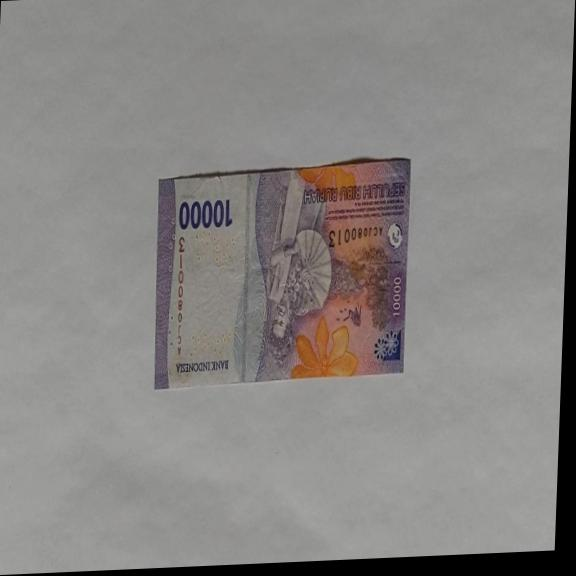Kertas: (151, 157, 411, 390), (177, 196, 234, 233)
